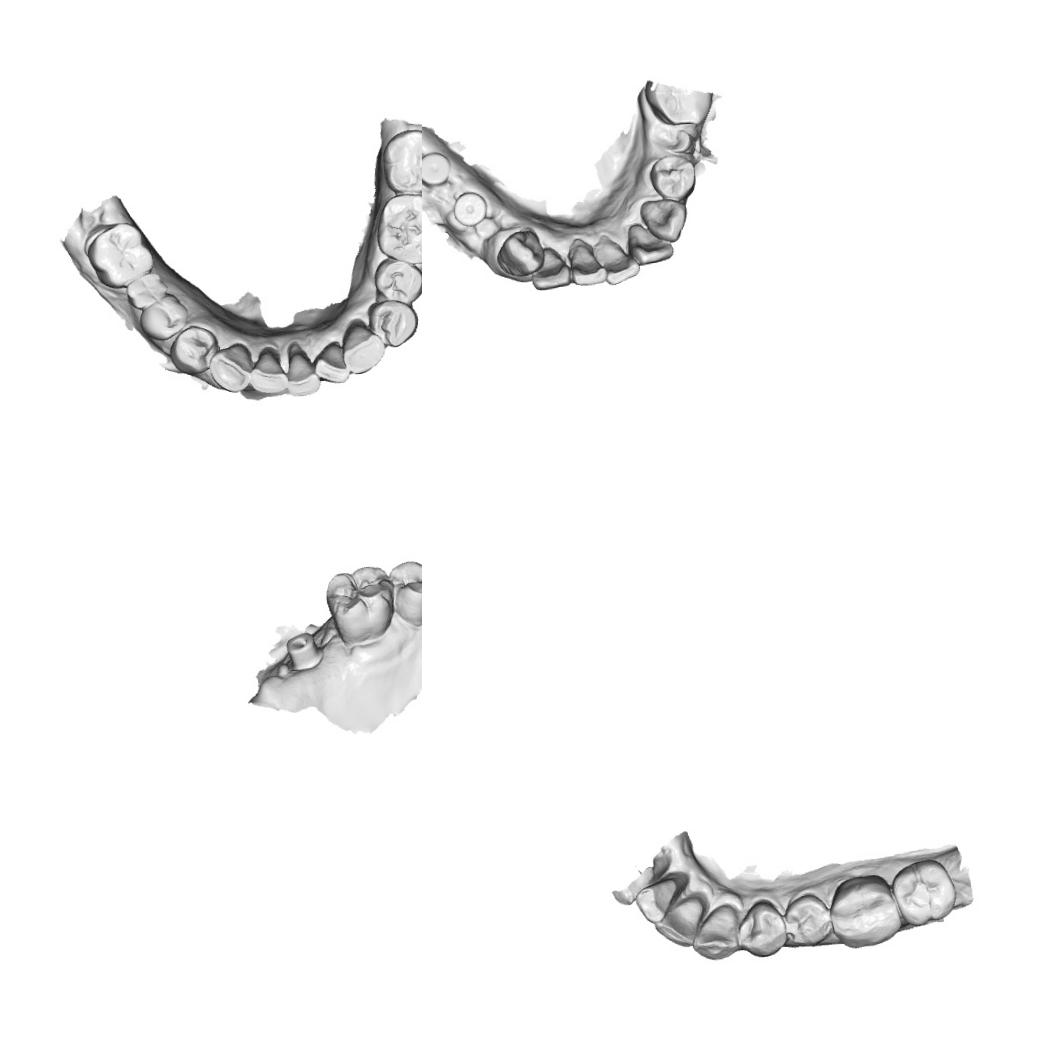canine: (688, 902, 742, 963), (338, 318, 388, 374), (494, 227, 545, 277), (206, 342, 254, 394), (638, 196, 688, 244)
implant: (284, 630, 323, 671), (452, 189, 488, 227), (422, 150, 451, 187)
incisor: (652, 899, 706, 949), (596, 234, 641, 286), (625, 220, 674, 267), (632, 878, 682, 924), (528, 244, 572, 292), (283, 342, 322, 396), (246, 346, 288, 396), (310, 337, 351, 384), (567, 240, 607, 287)
molar: (322, 562, 396, 644), (828, 871, 902, 950), (890, 854, 958, 928), (84, 220, 154, 290), (373, 190, 422, 266), (379, 127, 422, 195), (644, 88, 714, 128), (122, 271, 168, 310)
premolar: (734, 896, 790, 960), (783, 890, 833, 948), (167, 323, 220, 376), (366, 297, 420, 349), (136, 291, 190, 341), (645, 152, 698, 202), (371, 255, 422, 305), (386, 558, 422, 627)
